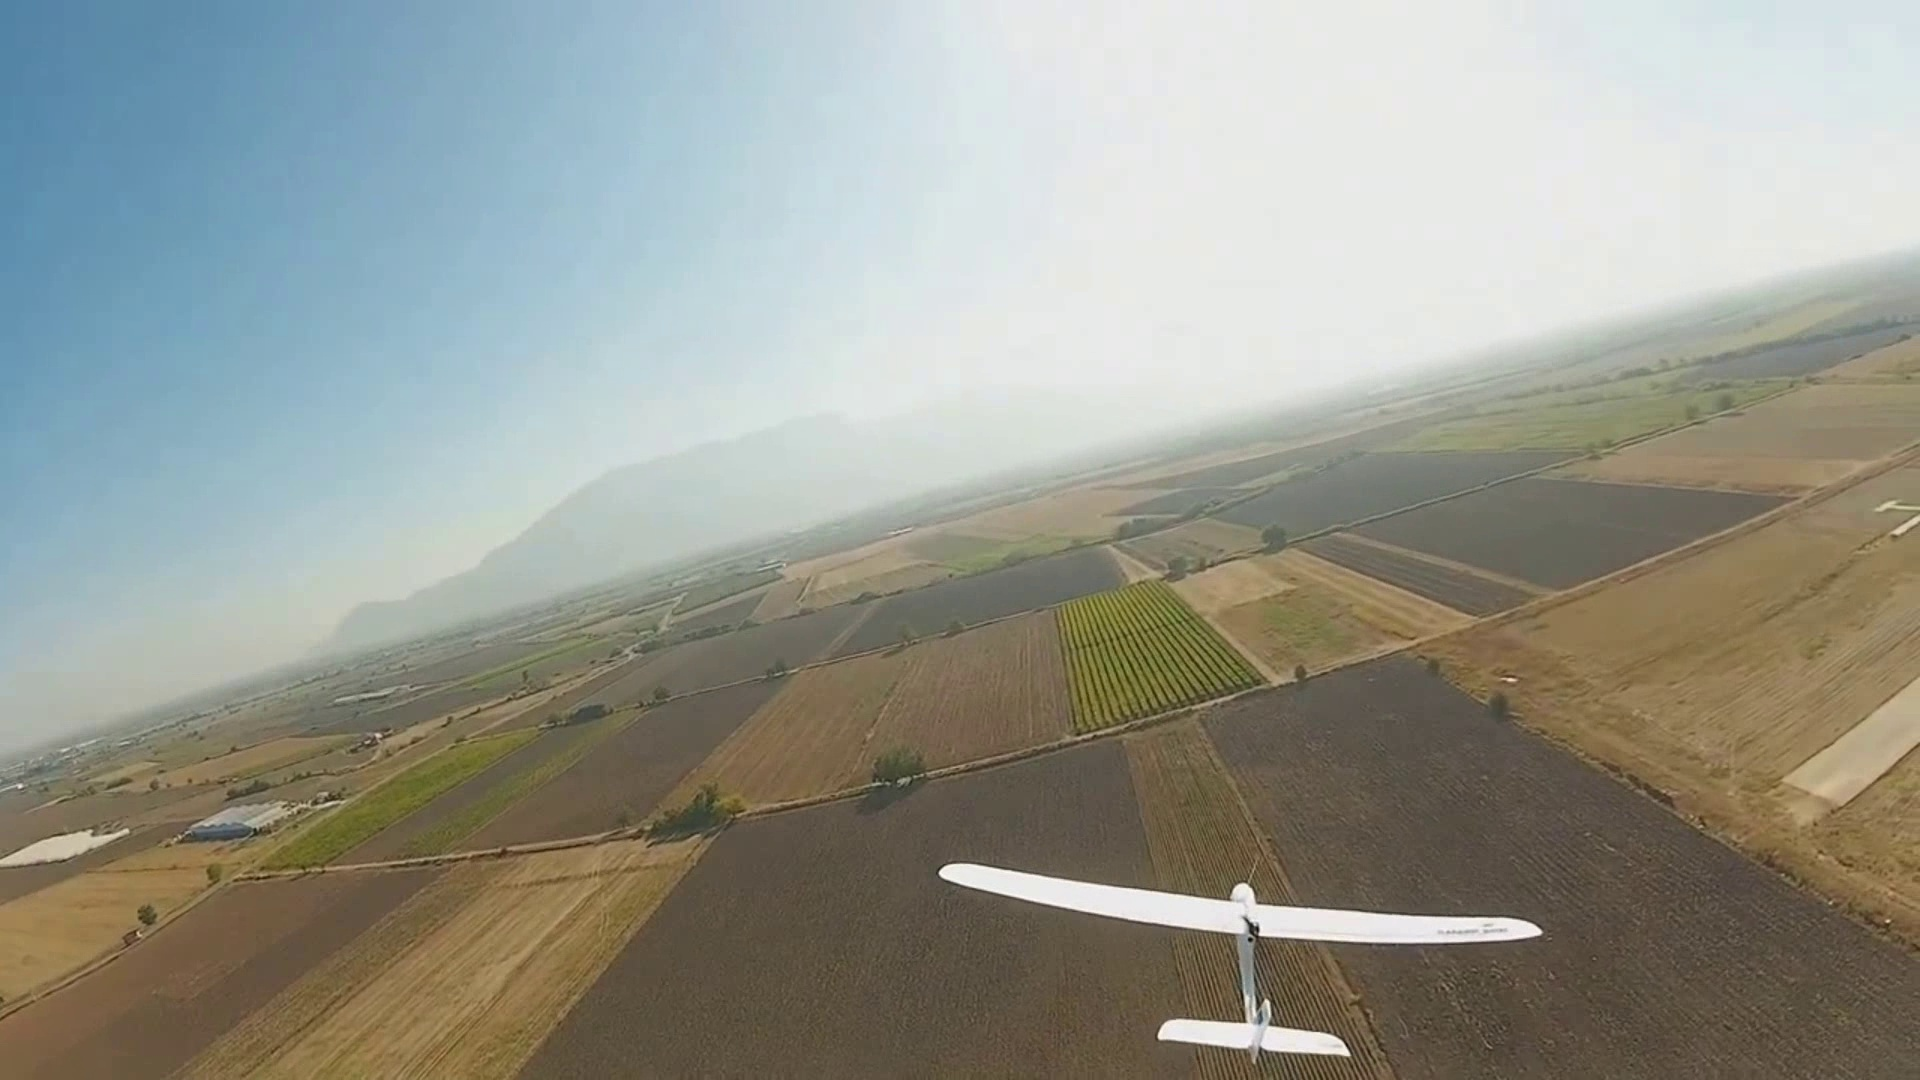airplane: (938, 864, 1543, 1054)
